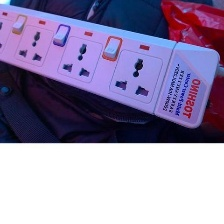three_eye_plug: (0, 0, 221, 131)
